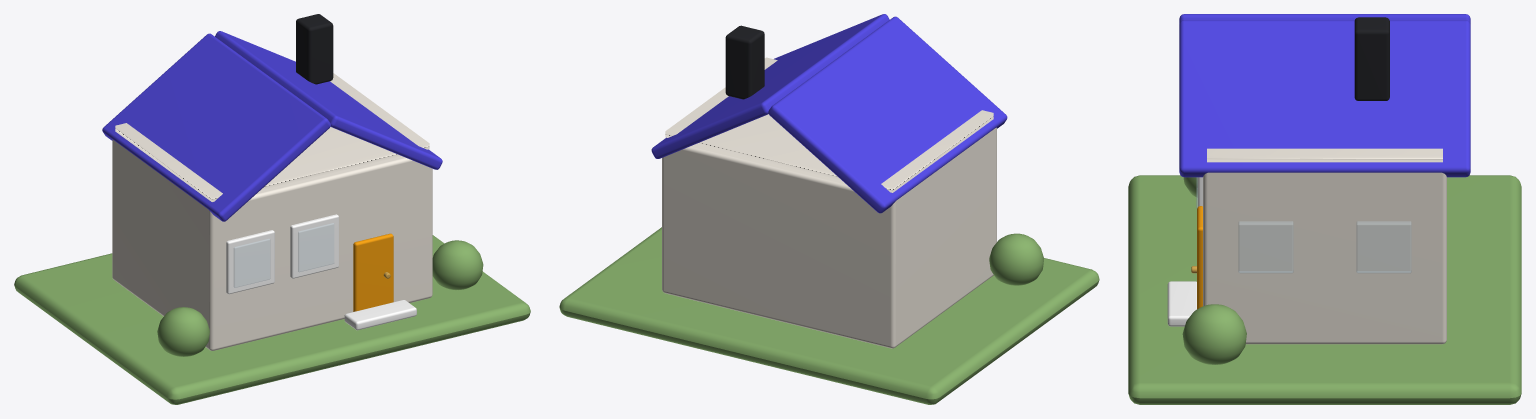
Rendered from hero-house.glb.
3 renders of one model, left to right at view 1: azimuth 30°, elevation 25°; view 2: azimuth 150°, elevation 25°; view 3: azimuth 270°, elevation 25°, orthographic. The views are drawn at different scales.
Visible parts, largest first — view 1: Walls, Lawn, Roof, Gable, Roof.001, Door, Window frame, Window frame.001, Chimney, Shrub, Shrub.001, Window (+2 smaller); view 2: Walls, Lawn, Roof, Roof.001, Gable, Chimney, Shrub; view 3: Lawn, Walls, Roof.001, Gable, Shrub.001, Chimney, Side window, Side window.001, Roof, Step, Door.
Part boxes in pixels (x1,y1,x2,y2): Walls: [112, 139, 432, 350]; Lawn: [14, 235, 530, 404]; Roof: [102, 33, 330, 221]; Gable: [115, 73, 429, 201]; Roof.001: [215, 31, 442, 169]; Door: [353, 233, 393, 311]; Window frame: [226, 230, 274, 294]; Window frame.001: [290, 214, 338, 278]; Chimney: [296, 14, 333, 84]; Shrub: [157, 307, 209, 356]; Shrub.001: [432, 240, 483, 289]; Window: [234, 239, 270, 287]; Walls: [662, 127, 996, 348]; Lawn: [559, 227, 1099, 404]; Roof: [768, 16, 1007, 213]; Roof.001: [651, 14, 889, 158]; Gable: [665, 57, 993, 192]; Chimney: [725, 25, 764, 99]; Shrub: [989, 233, 1043, 285]; Lawn: [1128, 175, 1521, 404]; Walls: [1203, 172, 1446, 344]; Roof.001: [1179, 20, 1470, 177]; Gable: [1207, 148, 1442, 162]; Shrub.001: [1182, 304, 1246, 364]; Chimney: [1354, 17, 1389, 100]; Side window: [1238, 221, 1293, 273]; Side window.001: [1356, 221, 1411, 273]; Roof: [1179, 14, 1470, 24]; Step: [1167, 281, 1196, 326]; Door: [1197, 206, 1202, 309].
Size of the model in its own units: 1.3 by 0.88 by 1.
